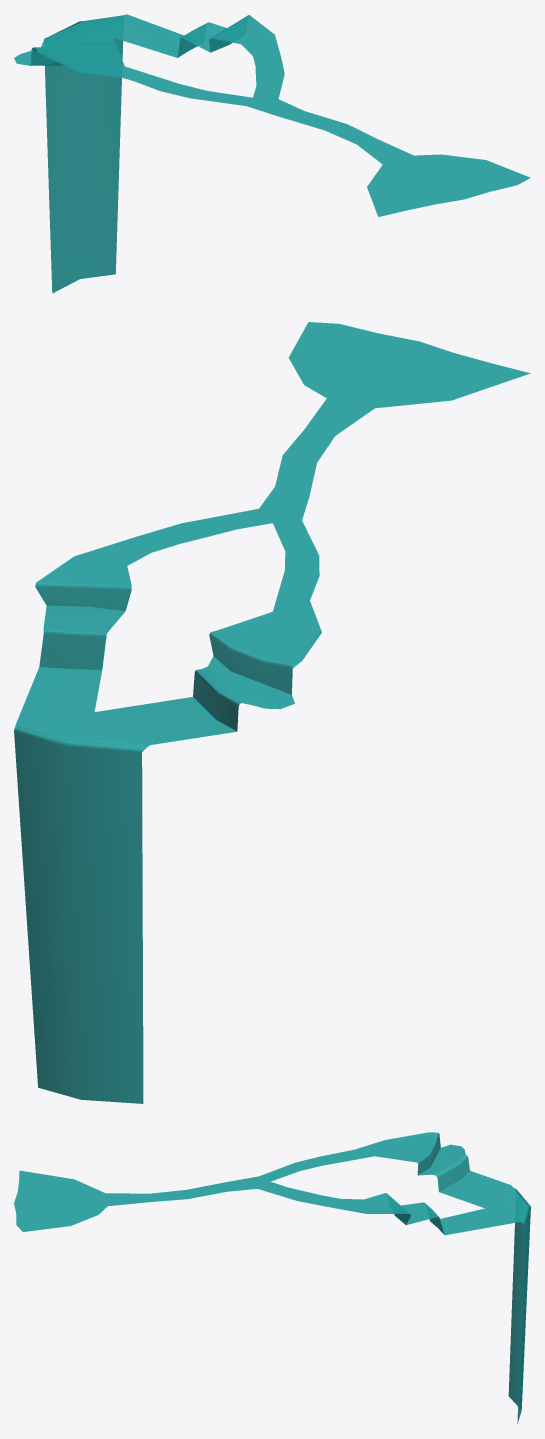
The model's file is WATER_v2.fbx.
The picture shows the model from 3 angles, top to bottom: view 1: azimuth 30°, elevation 25°; view 2: azimuth 150°, elevation 25°; view 3: azimuth 270°, elevation 25°; orthographic projection. The views are drawn at different scales.
Parts seen in each view (by area): view 1: fluss_smoothed2; view 2: fluss_smoothed2; view 3: fluss_smoothed2.
Boxes of the visible parts, bbox=[...] form: fluss_smoothed2: bbox=[14, 14, 530, 293]; fluss_smoothed2: bbox=[14, 322, 530, 1103]; fluss_smoothed2: bbox=[14, 1132, 530, 1424].
Size of the model in its own units: 99.86 by 111 by 217.
